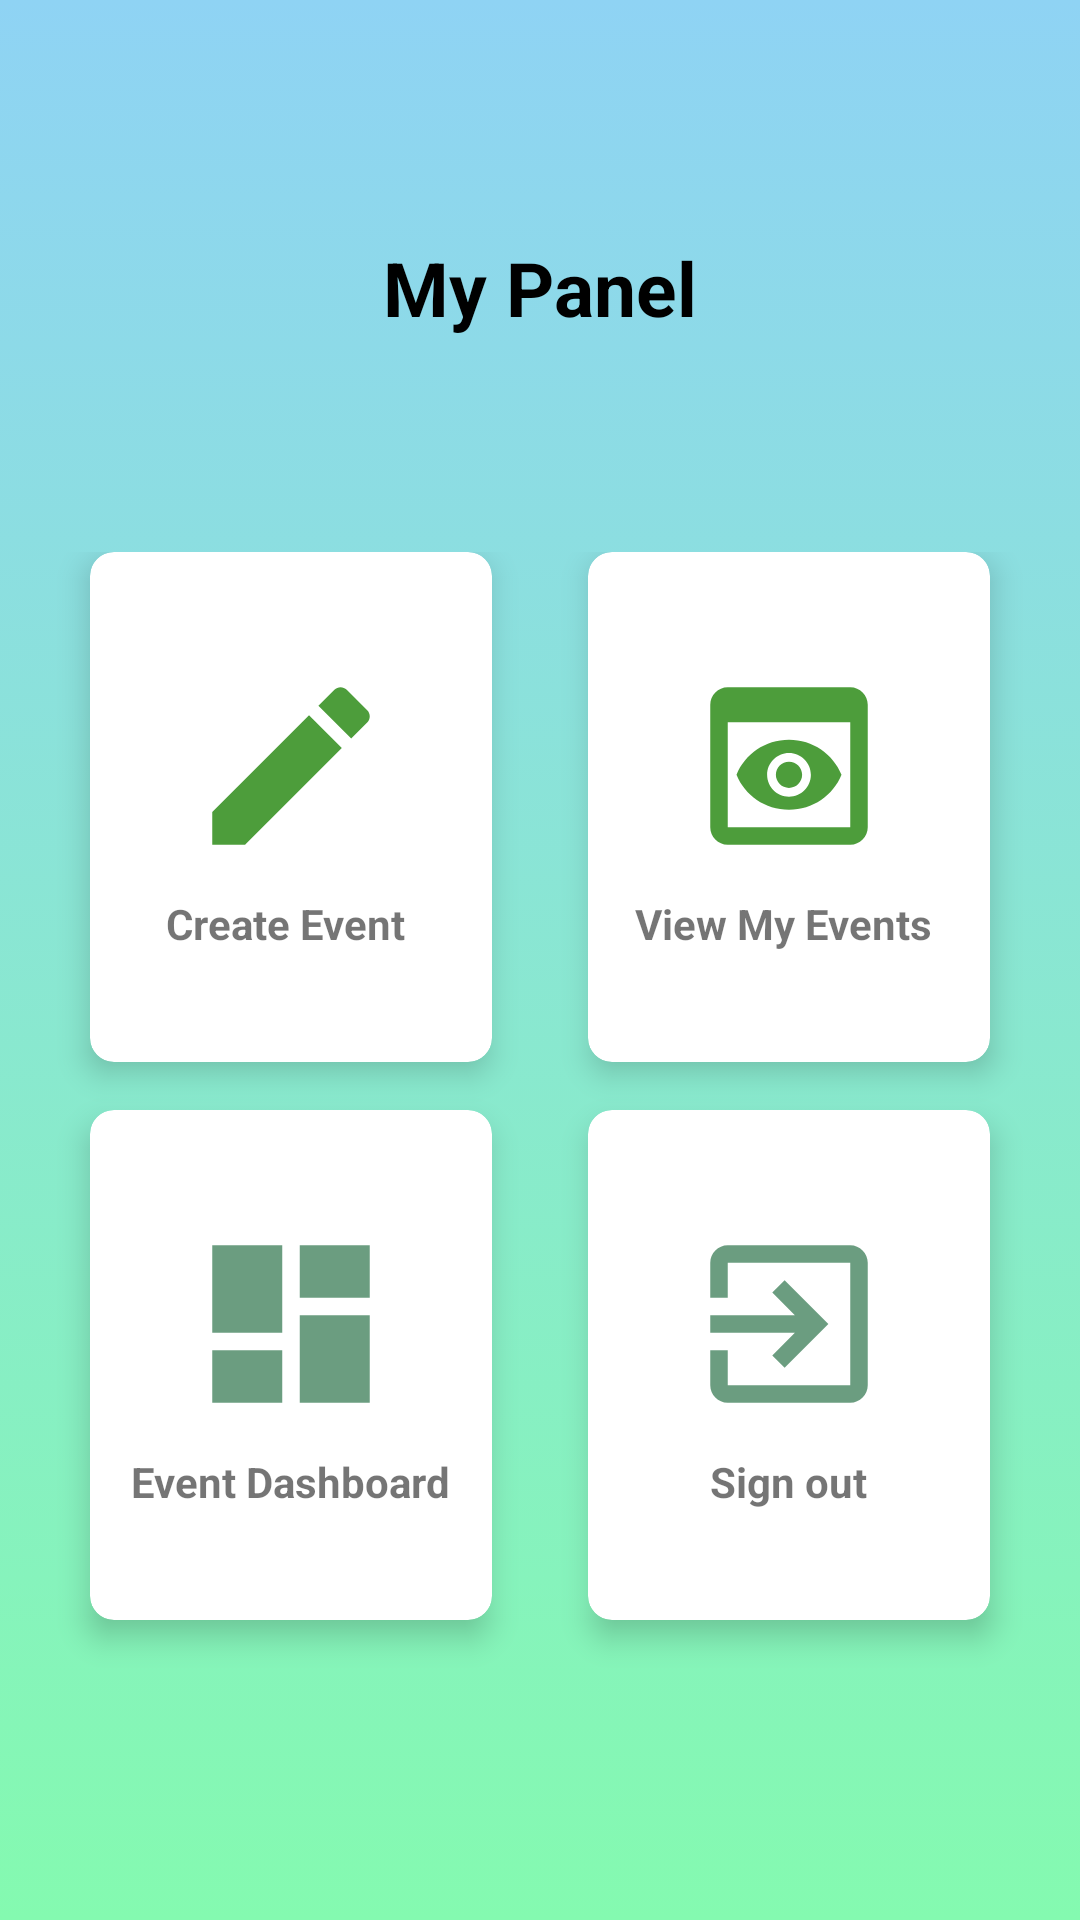

Icon click points for this 1080px×1920px phone screenshot, format point (x, y):
view created event: point (789, 766)
